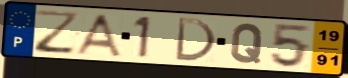1: (132, 15, 154, 60)
5: (270, 22, 314, 69)
A: (72, 12, 124, 58)
D: (173, 16, 219, 64)
Q: (229, 22, 266, 65)
Z: (33, 9, 81, 56)
